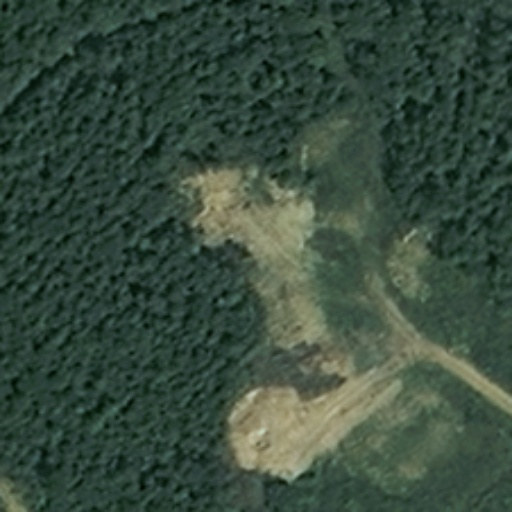landslide: (187, 168, 328, 350), (232, 357, 411, 479)
